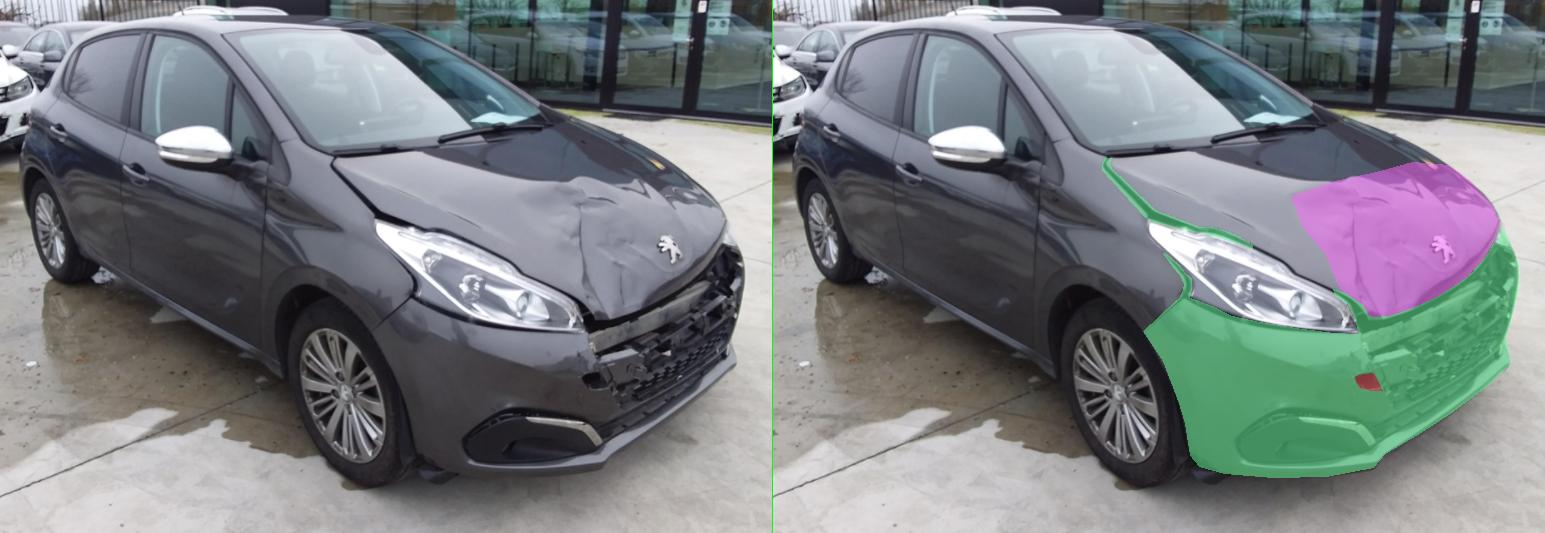Broken part: (740, 228, 1491, 477), (1121, 242, 1451, 335), (658, 158, 959, 248), (781, 253, 837, 298)
Dent: (1037, 162, 1453, 318)
Missing part: (1165, 373, 1219, 390)
